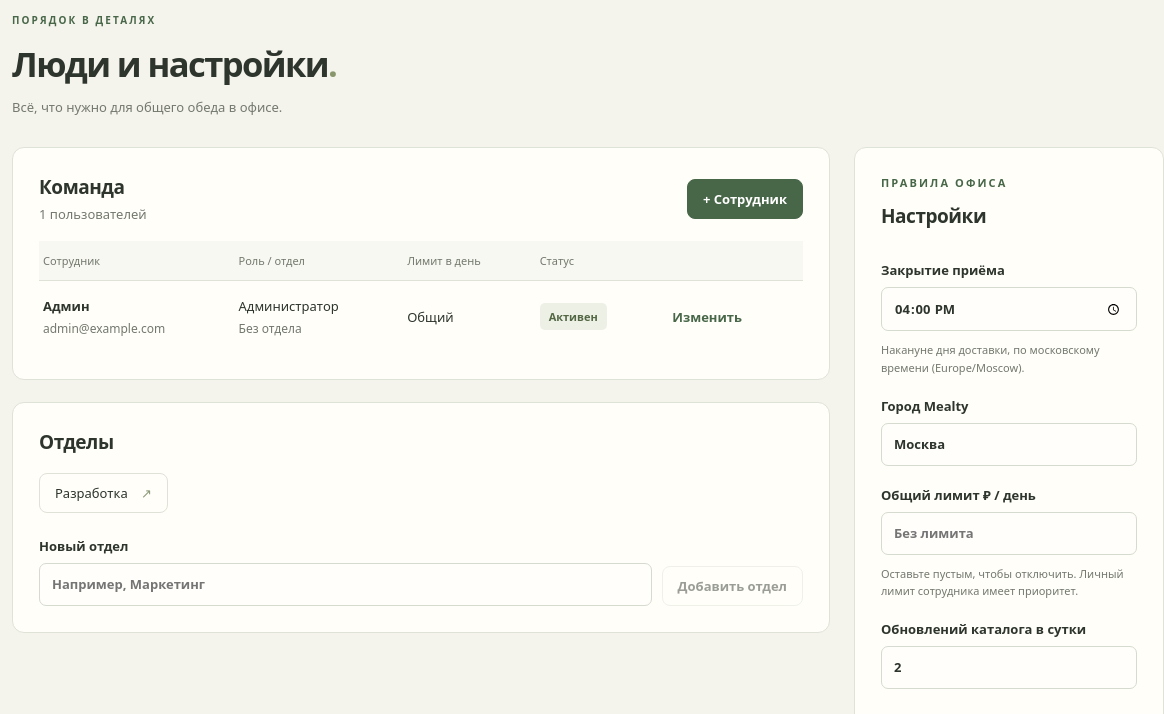
Test: prevents starting another department edit before a save completes
Type "QA" into the field labelled "Новый отдел" at coordinates (345, 584), box [39, 563, 652, 606]
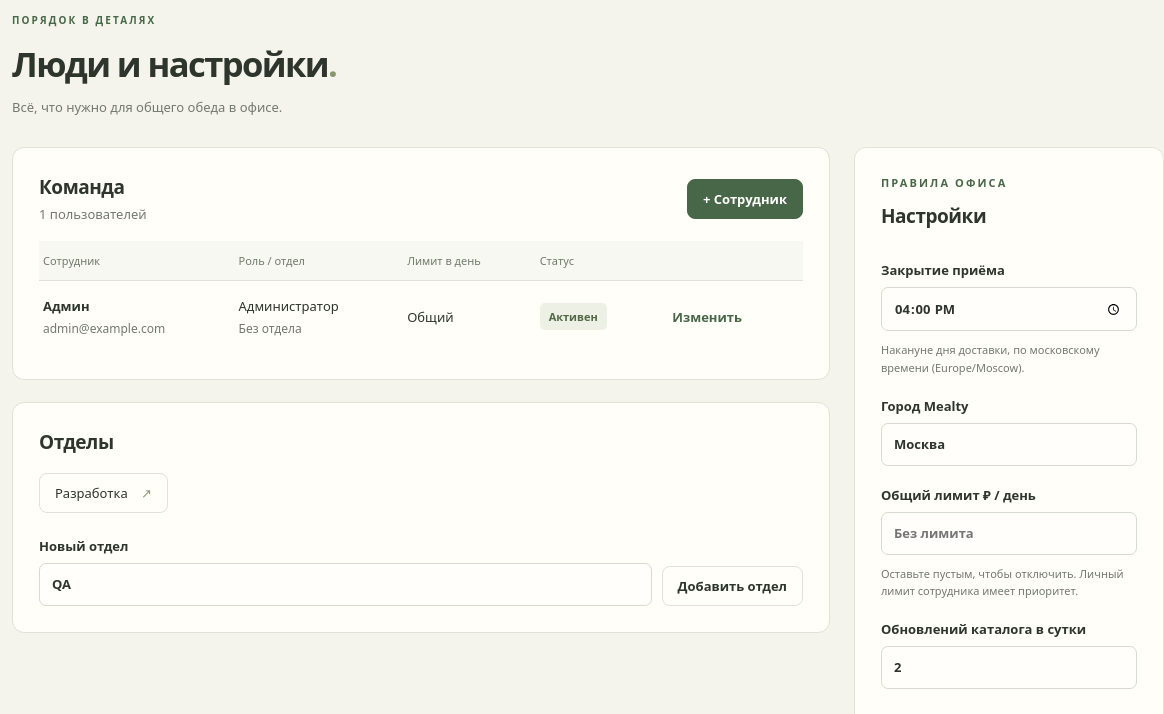
Click the button "Добавить отдел" at coordinates (732, 586), box [662, 566, 803, 606]
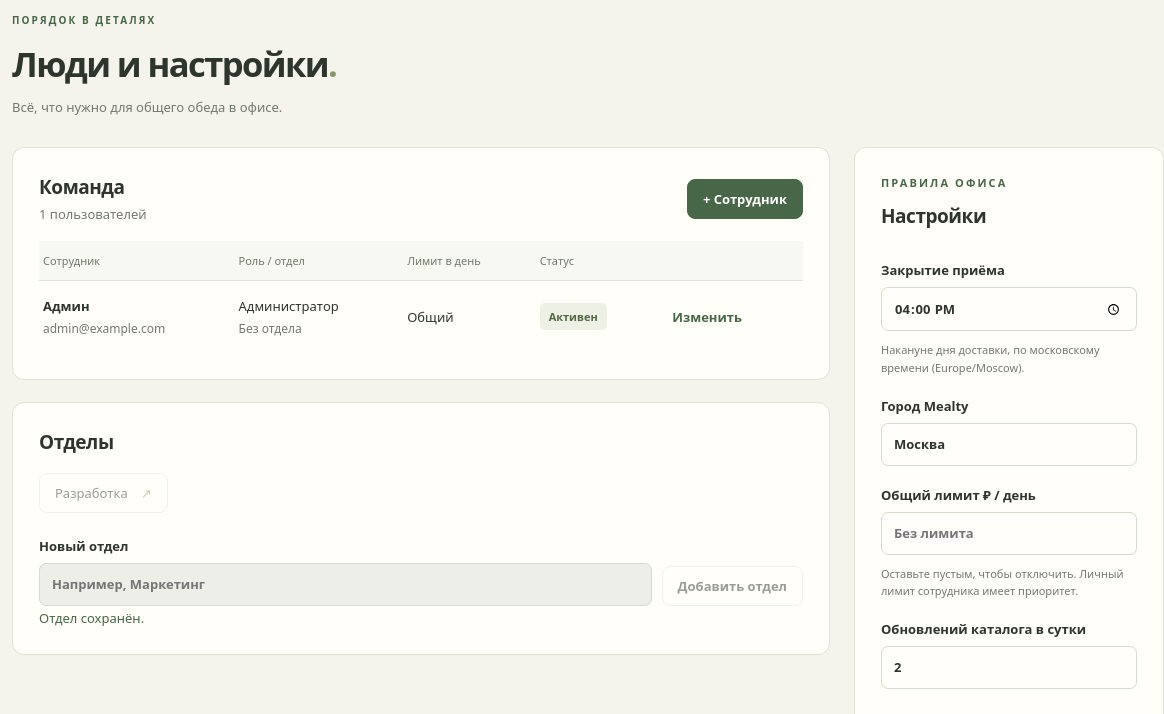
Check: the button "Добавить отдел" is disabled, box [662, 566, 803, 606]
Check: the field labelled "Новый отдел" is disabled, box [39, 563, 652, 606]
Check: the button named "Разработка — изменить отдел" is disabled, box [39, 473, 168, 513]
